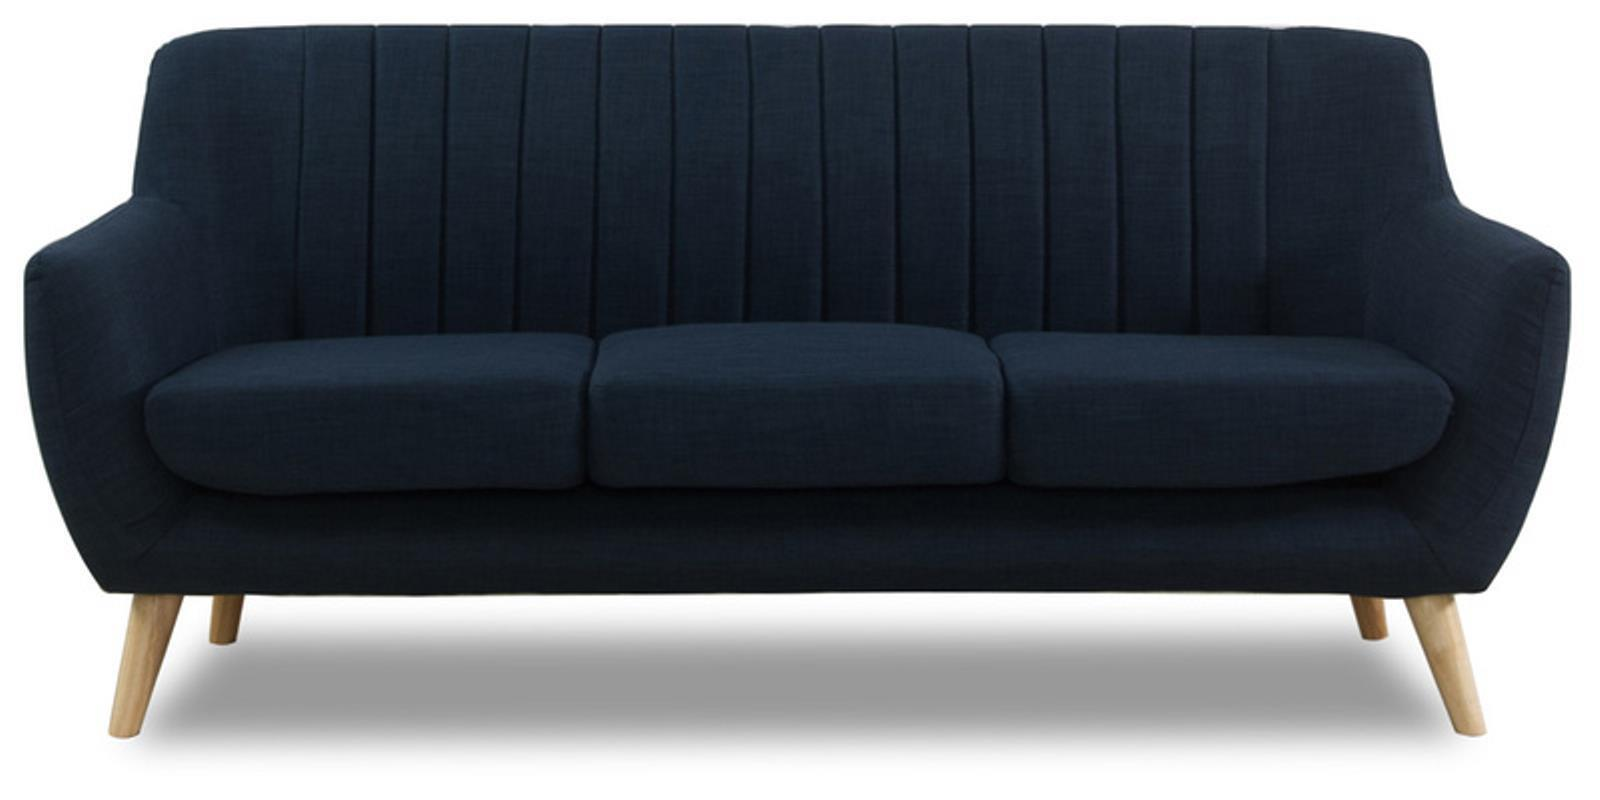Managua Three Seater Sofa in Blue Colour by CasaCraft: (23, 21, 1574, 739)
